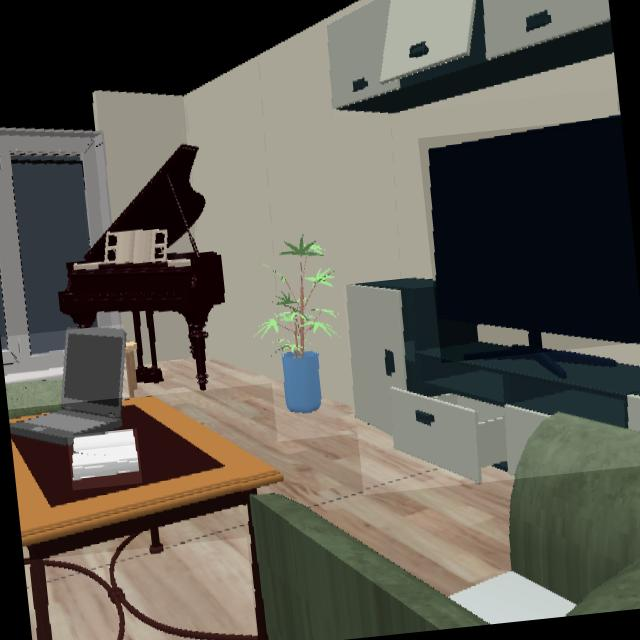book: (72, 432, 141, 486)
cabinet: (346, 280, 640, 482), (326, 0, 614, 110)
laptop: (9, 328, 123, 445)
monitor: (429, 117, 640, 353)
sofa: (249, 412, 640, 640)
table: (10, 396, 281, 559)
